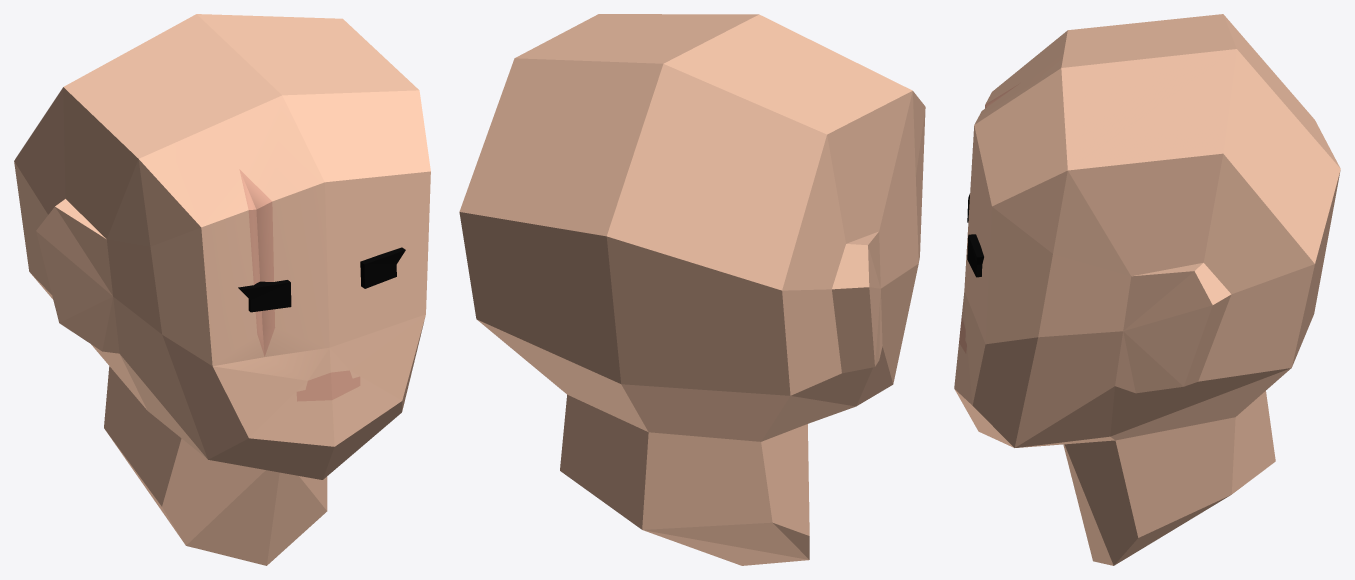
Rendered from Chr_Head_Female_06_Static.fbx.
The picture shows the model from 3 angles, left to right: view 1: azimuth 30°, elevation 25°; view 2: azimuth 150°, elevation 25°; view 3: azimuth 270°, elevation 25°; orthographic projection. The views are drawn at different scales.
Visible parts, largest first — view 1: Chr_Head_Female_06_Static; view 2: Chr_Head_Female_06_Static; view 3: Chr_Head_Female_06_Static.
Part boxes in pixels (box(x1,y1,x2,y2)): Chr_Head_Female_06_Static: box(14, 14, 430, 565); Chr_Head_Female_06_Static: box(459, 14, 925, 565); Chr_Head_Female_06_Static: box(954, 14, 1340, 565).
Size of the model in its own units: 0.2661 by 0.3693 by 0.2526.
